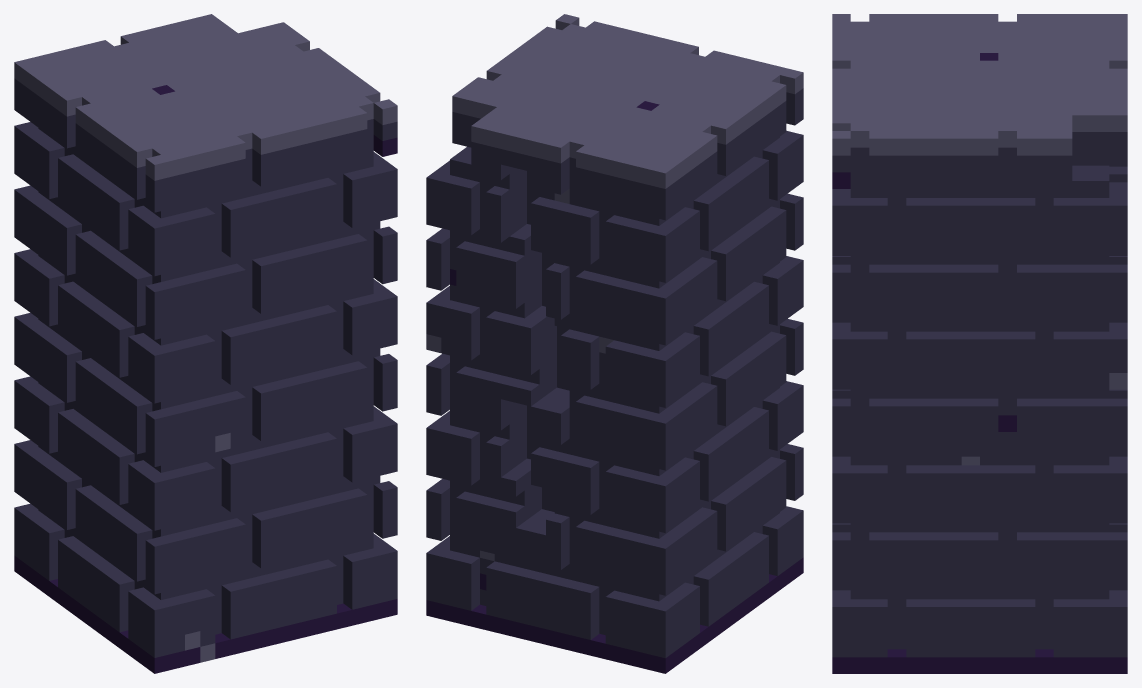
File: wall_block_cracked.obj
The picture shows the model from 3 angles, left to right: view 1: azimuth 30°, elevation 25°; view 2: azimuth 150°, elevation 25°; view 3: azimuth 270°, elevation 25°; orthographic projection. The views are drawn at different scales.
Parts seen in each view (by area): view 1: wall_block_cracked; view 2: wall_block_cracked; view 3: wall_block_cracked.
Part boxes in pixels (left/top/right/bottom): wall_block_cracked: left=14, top=14, right=397, bottom=673; wall_block_cracked: left=426, top=14, right=803, bottom=673; wall_block_cracked: left=832, top=14, right=1127, bottom=673.
Size of the model in its own units: 1 by 2 by 1.
Materials: 1 (1 with a texture image).
